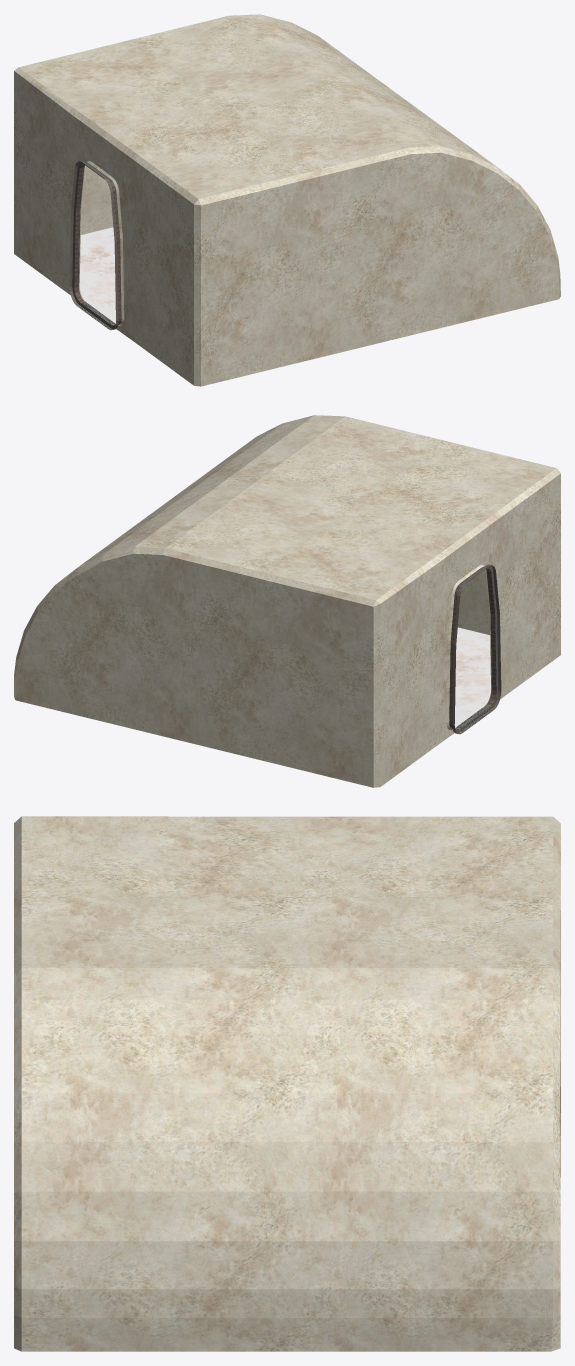
Rendered from thm_tato_assoc_hall_civ_s02_r11_bedroom2_mesh_r11.fbx.
3 renders of one model, top to bottom at view 1: azimuth 30°, elevation 25°; view 2: azimuth 150°, elevation 25°; view 3: azimuth 270°, elevation 25°, orthographic. The views are drawn at different scales.
Visible parts, largest first — view 1: mesh_node; view 2: mesh_node; view 3: mesh_node.
Boxes of the visible parts, bbox=[...] form: mesh_node: bbox=[14, 14, 560, 386]; mesh_node: bbox=[14, 415, 560, 787]; mesh_node: bbox=[14, 816, 560, 1351].
Bounding box in the file's own units: 8.49 × 4.01 × 7.24.
